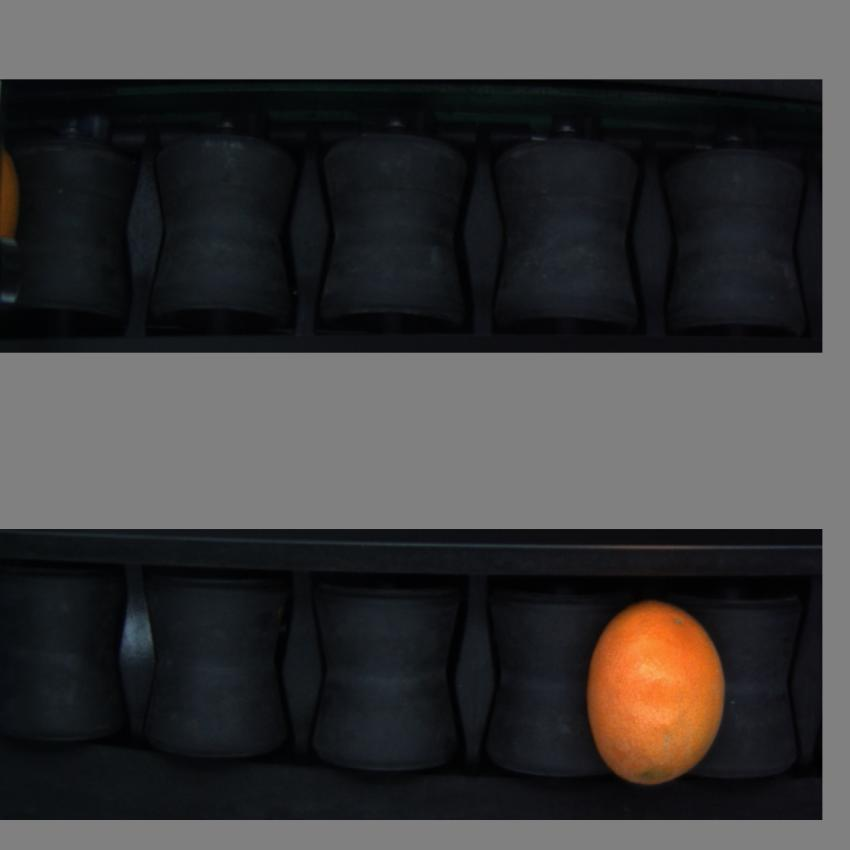Buen estado: (583, 594, 730, 800)
